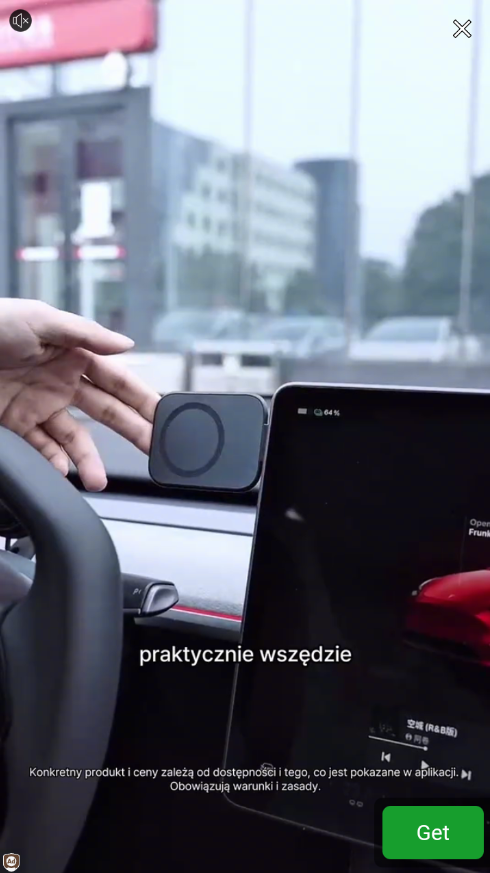close_button: (446, 13, 478, 44)
